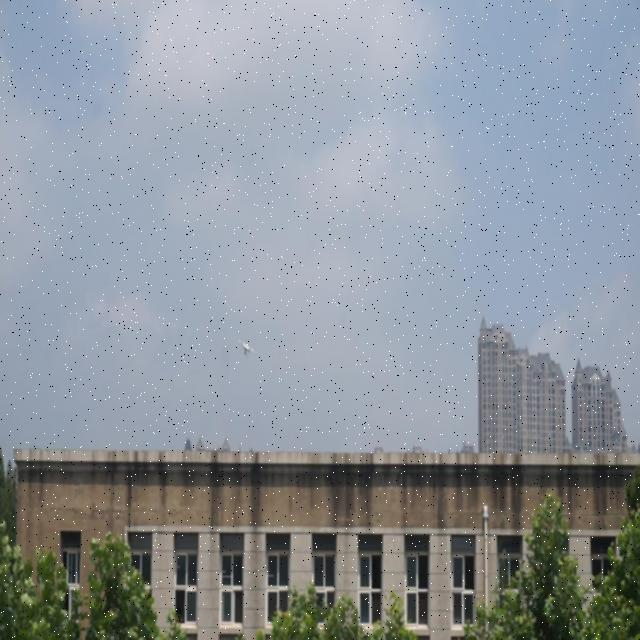UAV: (238, 338, 255, 356)
